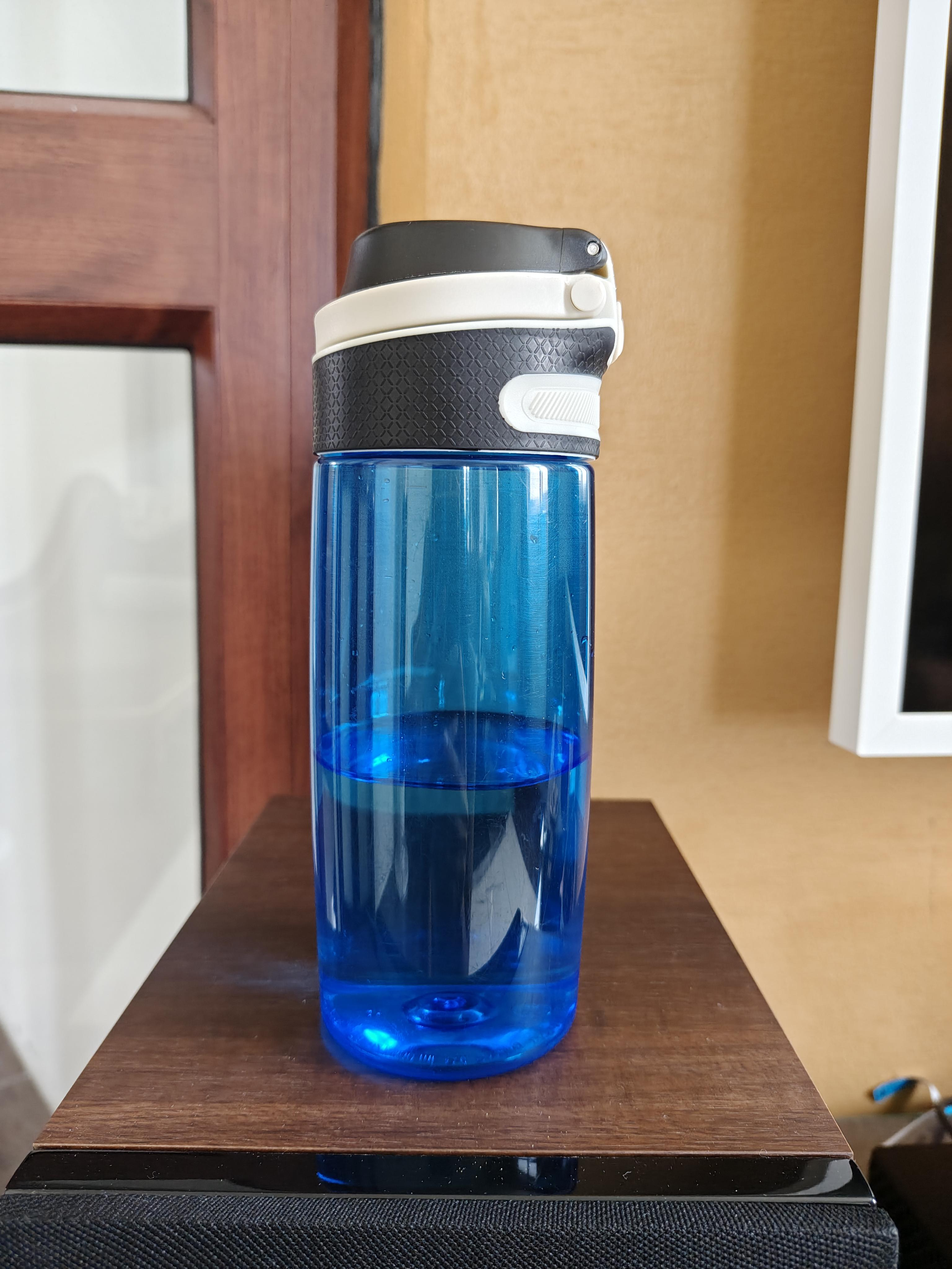bottle: (309, 220, 624, 1082)
